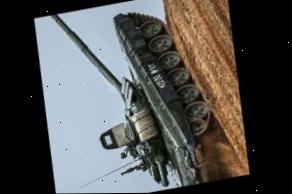tank: (32, 0, 236, 194)
